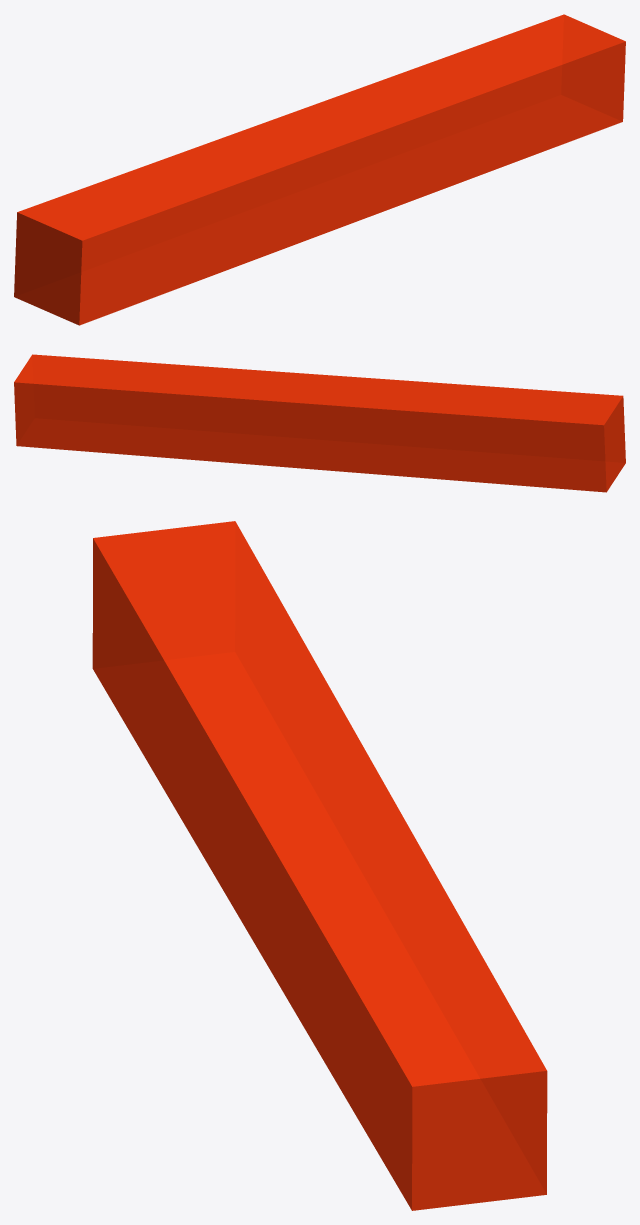
The model's file is Event_421115418_EErechit_18.fbx.
The picture shows the model from 3 angles, top to bottom: view 1: azimuth 30°, elevation 25°; view 2: azimuth 150°, elevation 25°; view 3: azimuth 270°, elevation 25°; orthographic projection. The views are drawn at different scales.
Visible parts, largest first — view 1: Model; view 2: Model; view 3: Model.
Boxes of the visible parts, x1,y1,x2,y2 form: Model: (14, 14, 625, 325); Model: (14, 354, 625, 492); Model: (92, 521, 547, 1210).
Bounding box in the file's own units: 0.6365 × 0.1018 × 0.2363.
